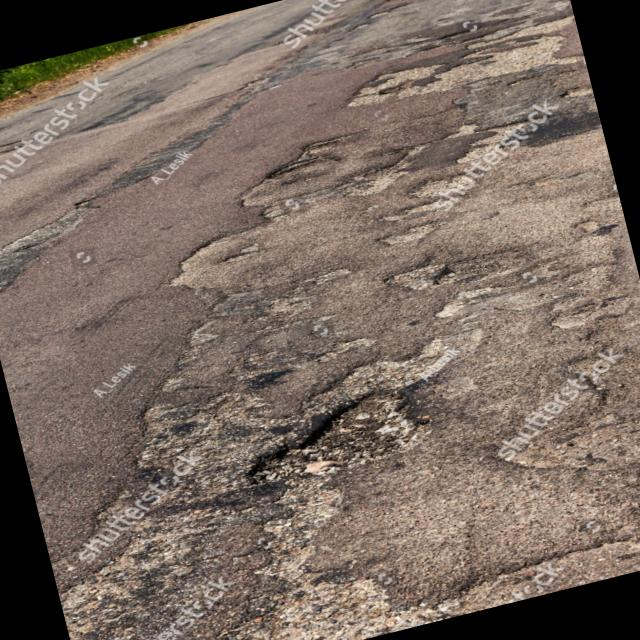Potholes: (205, 373, 472, 560)
